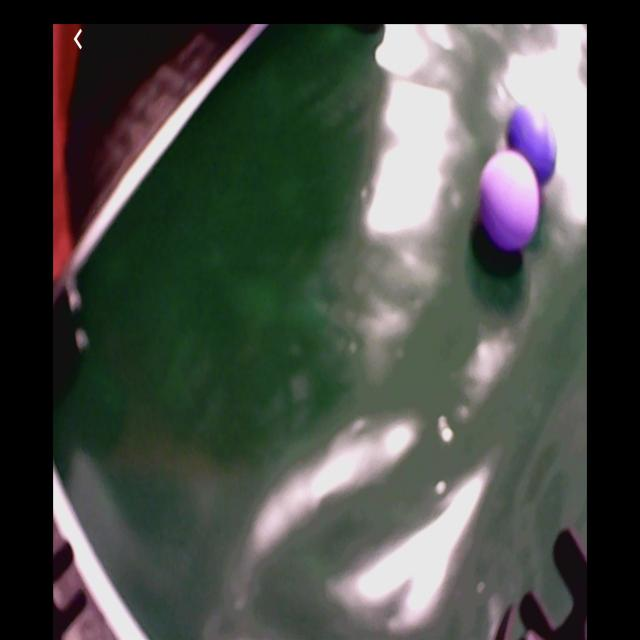ball: (479, 151, 542, 251), (505, 105, 562, 183)
